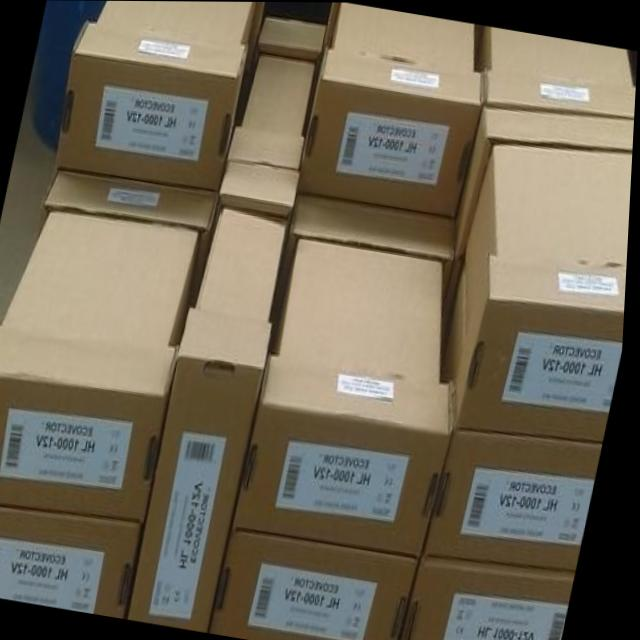box: (133, 307, 277, 633), (237, 355, 460, 557), (0, 323, 183, 522), (55, 20, 249, 194), (459, 254, 629, 443), (300, 45, 485, 214), (467, 146, 634, 331), (4, 210, 202, 345), (458, 106, 635, 251), (429, 430, 607, 569), (274, 238, 445, 381), (215, 528, 427, 640), (274, 192, 458, 320), (40, 168, 220, 287), (0, 506, 151, 619), (406, 554, 582, 640), (198, 206, 291, 318), (331, 3, 474, 69), (479, 27, 634, 82), (96, 1, 257, 42), (485, 71, 637, 114), (242, 51, 317, 136), (221, 161, 301, 217), (229, 126, 308, 169), (257, 17, 328, 58), (445, 264, 470, 378)
